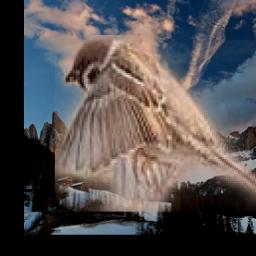Sparrow: (55, 36, 256, 213)
